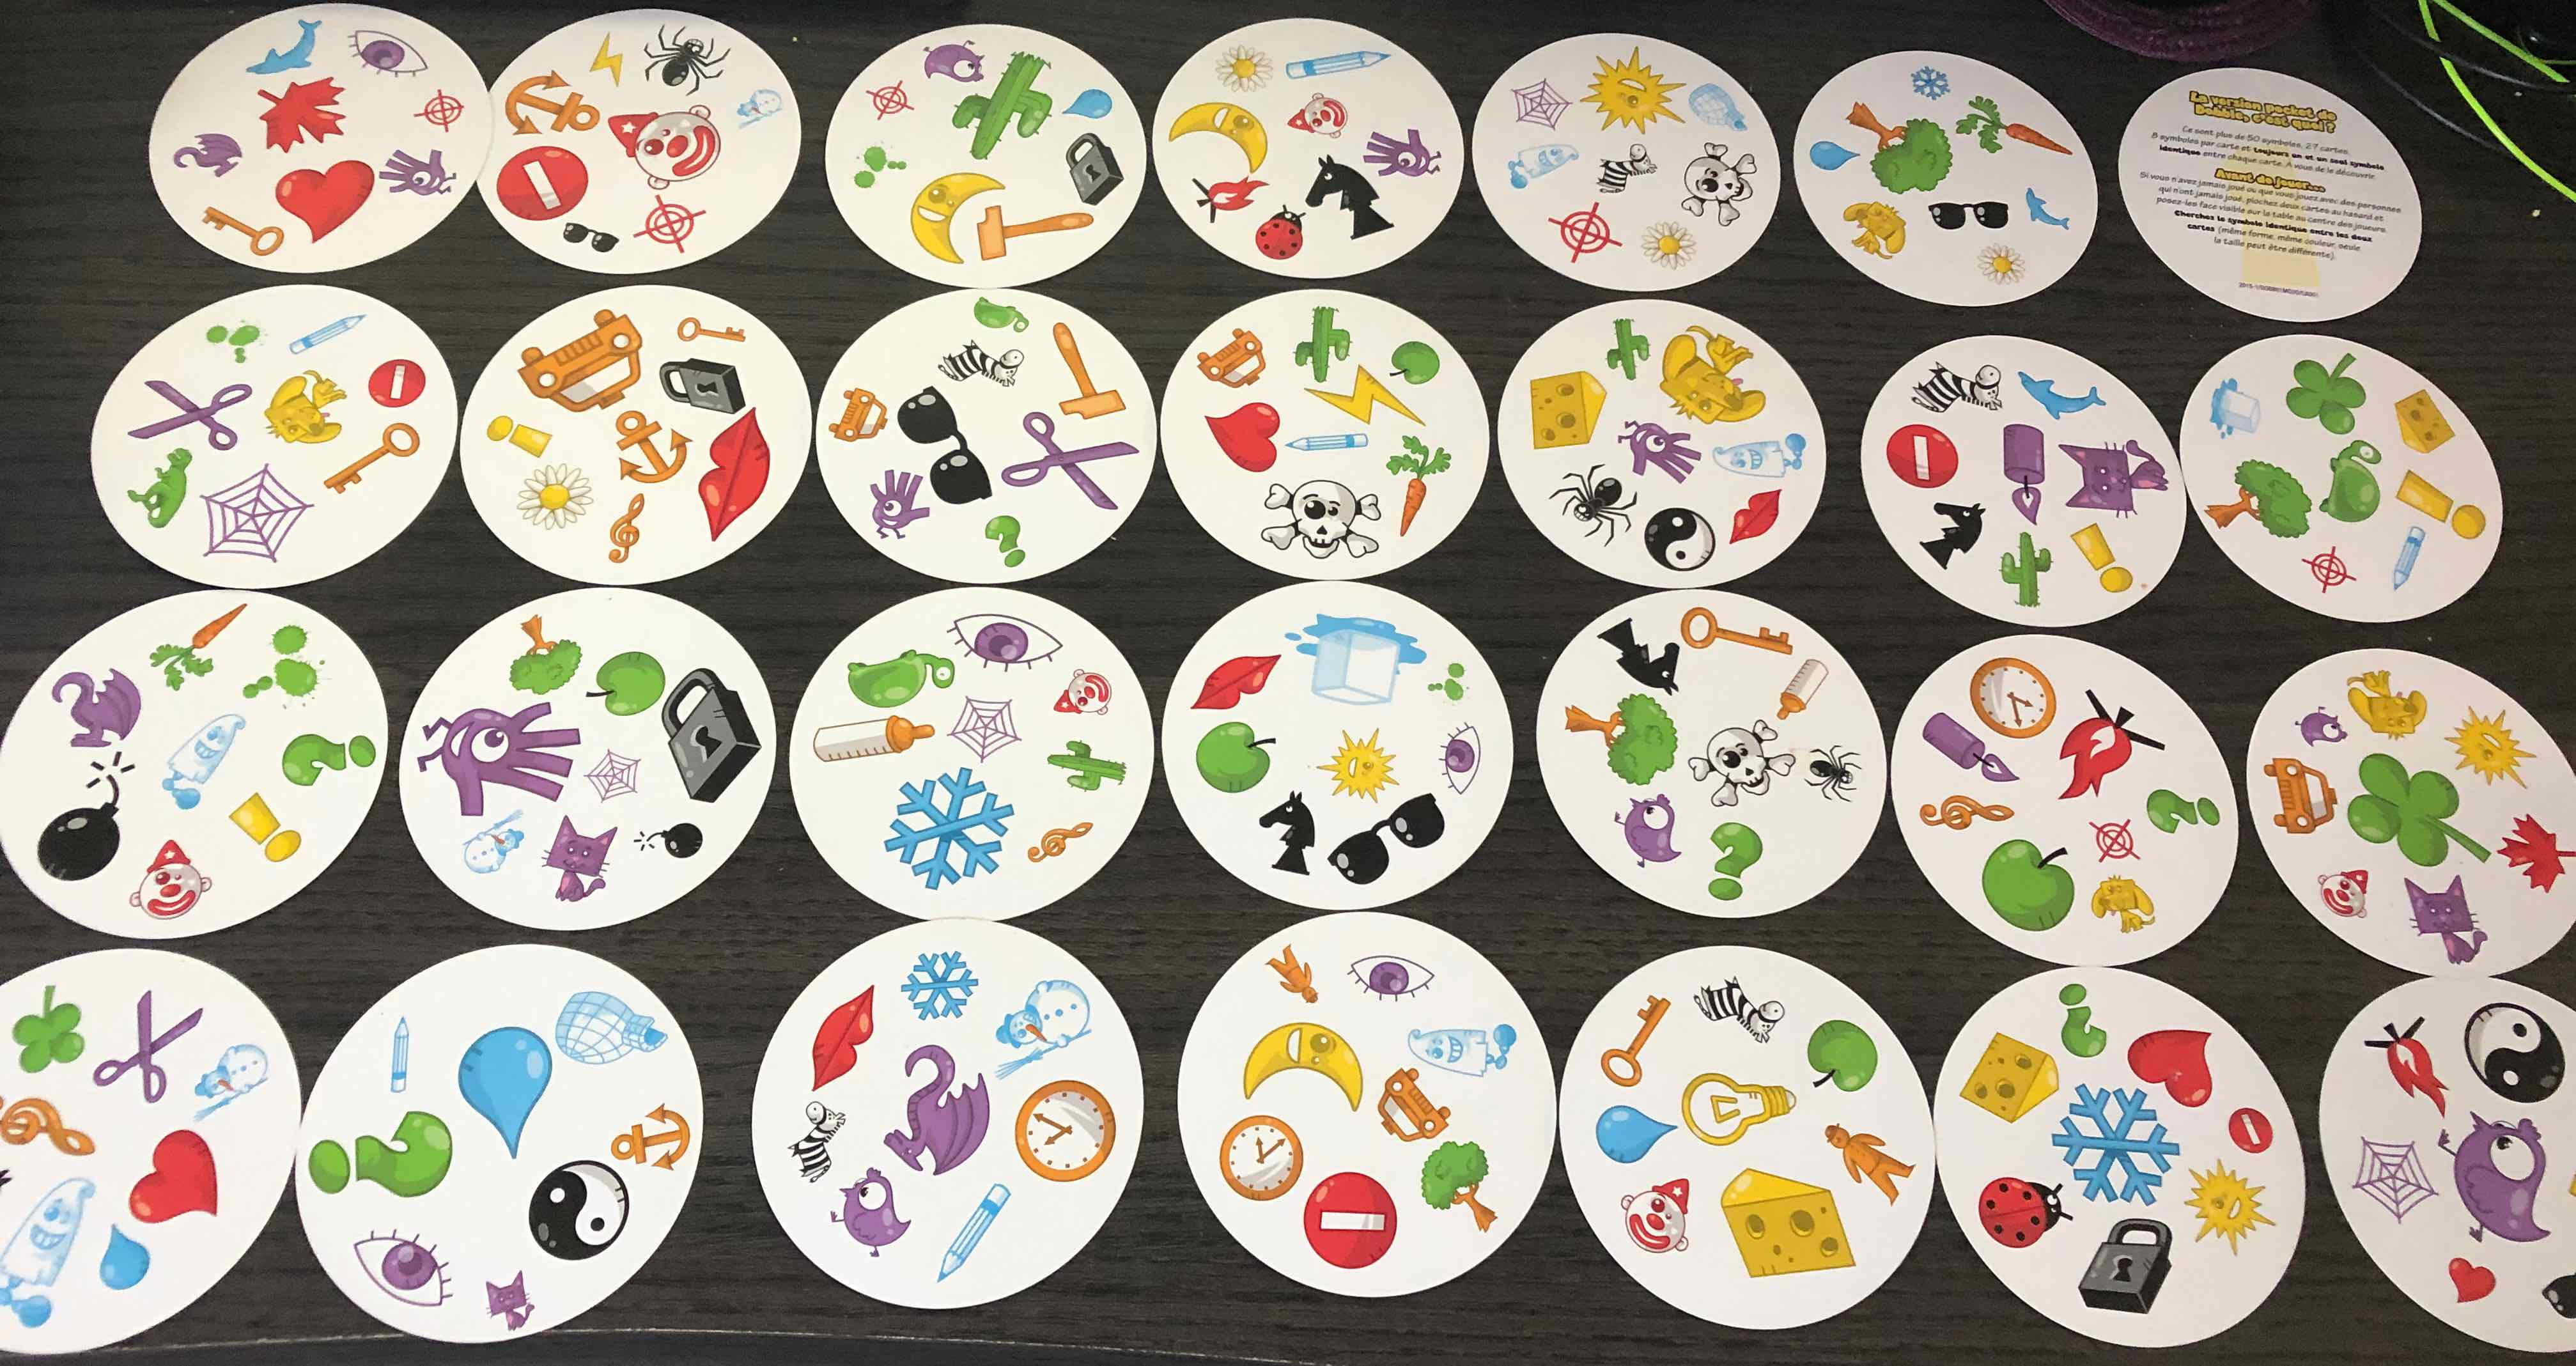ancre: (1757, 1128, 1888, 1223)
arbre: (2065, 988, 2162, 1088)
bouche: (1268, 625, 1387, 724)
cactus: (244, 618, 334, 720)
chien: (2435, 705, 2542, 782)
coeur: (133, 1129, 237, 1230)
dooble: (417, 697, 595, 823), (203, 453, 315, 552)
fantome: (24, 1187, 135, 1322), (184, 700, 257, 795)
flocon: (2051, 1073, 2177, 1202), (896, 768, 1029, 882)
goutte: (482, 1015, 581, 1146), (1566, 1095, 1666, 1172)
lune: (1634, 1076, 1780, 1155), (1492, 364, 1605, 456)
oiseau: (504, 814, 608, 894)
sens_interdit: (2489, 1259, 2567, 1313)
ying_yang: (509, 1148, 642, 1264)
